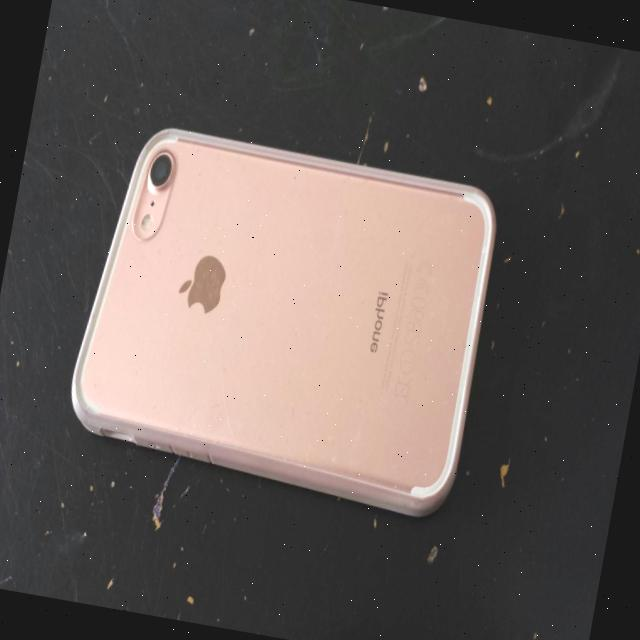Phone: (52, 111, 511, 528)
